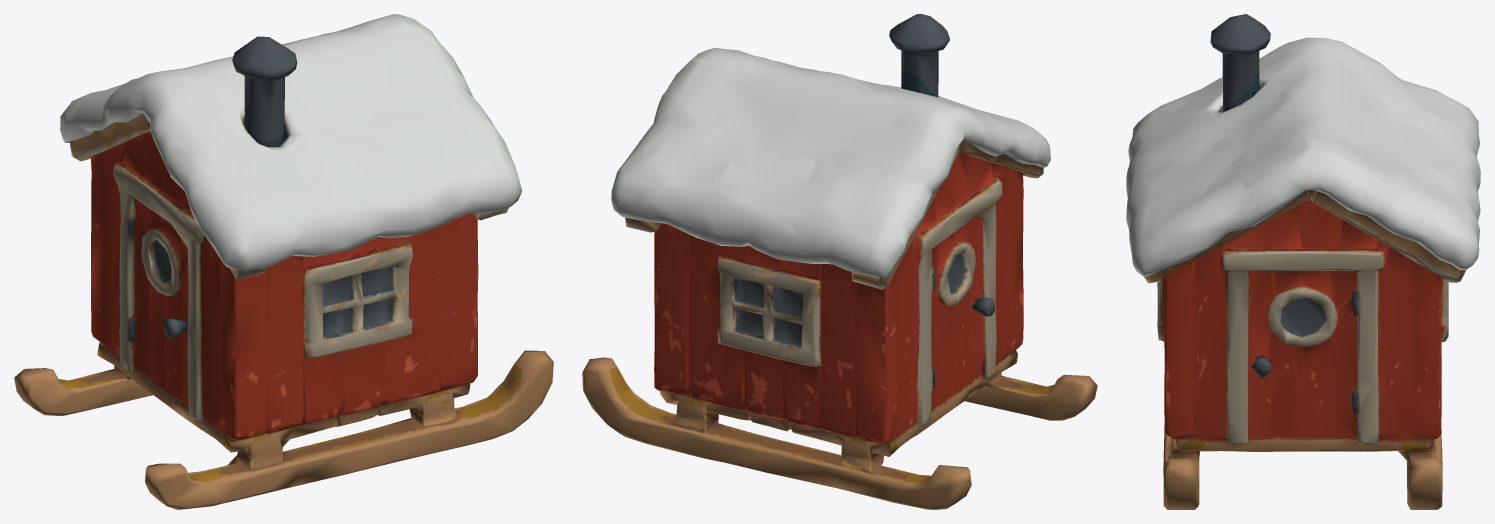
The model's file is ice-hut.glb.
3 renders of one model, left to right at view 1: azimuth 30°, elevation 25°; view 2: azimuth 150°, elevation 25°; view 3: azimuth 270°, elevation 25°, orthographic. The views are drawn at different scales.
Visible parts, largest first — view 1: tripo_node_902f66e5-0ea8-4a22-bc7e-af2515e86f96; view 2: tripo_node_902f66e5-0ea8-4a22-bc7e-af2515e86f96; view 3: tripo_node_902f66e5-0ea8-4a22-bc7e-af2515e86f96.
Boxes of the visible parts, box(x1,y1,x2,y2) form: tripo_node_902f66e5-0ea8-4a22-bc7e-af2515e86f96: box(14, 14, 553, 509); tripo_node_902f66e5-0ea8-4a22-bc7e-af2515e86f96: box(582, 14, 1097, 509); tripo_node_902f66e5-0ea8-4a22-bc7e-af2515e86f96: box(1126, 14, 1480, 509).
Size of the model in its own units: 0.9973 by 1 by 0.8043.
Materials: 1 (1 with a texture image).
